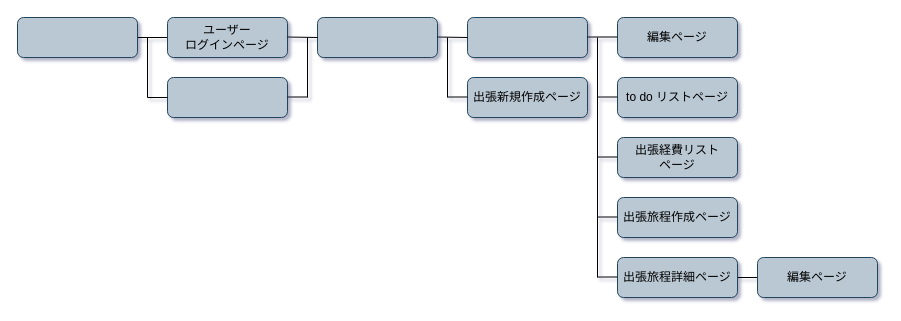
Image size: 901x321. Some labels were removed from this diagram. Each missing label, with the centre of its shape:
トップページ: the point at 77,37
マイページ: the point at 377,37
ユーザー 新規登録ページ: the point at 227,97
出張詳細ページ: the point at 527,37
